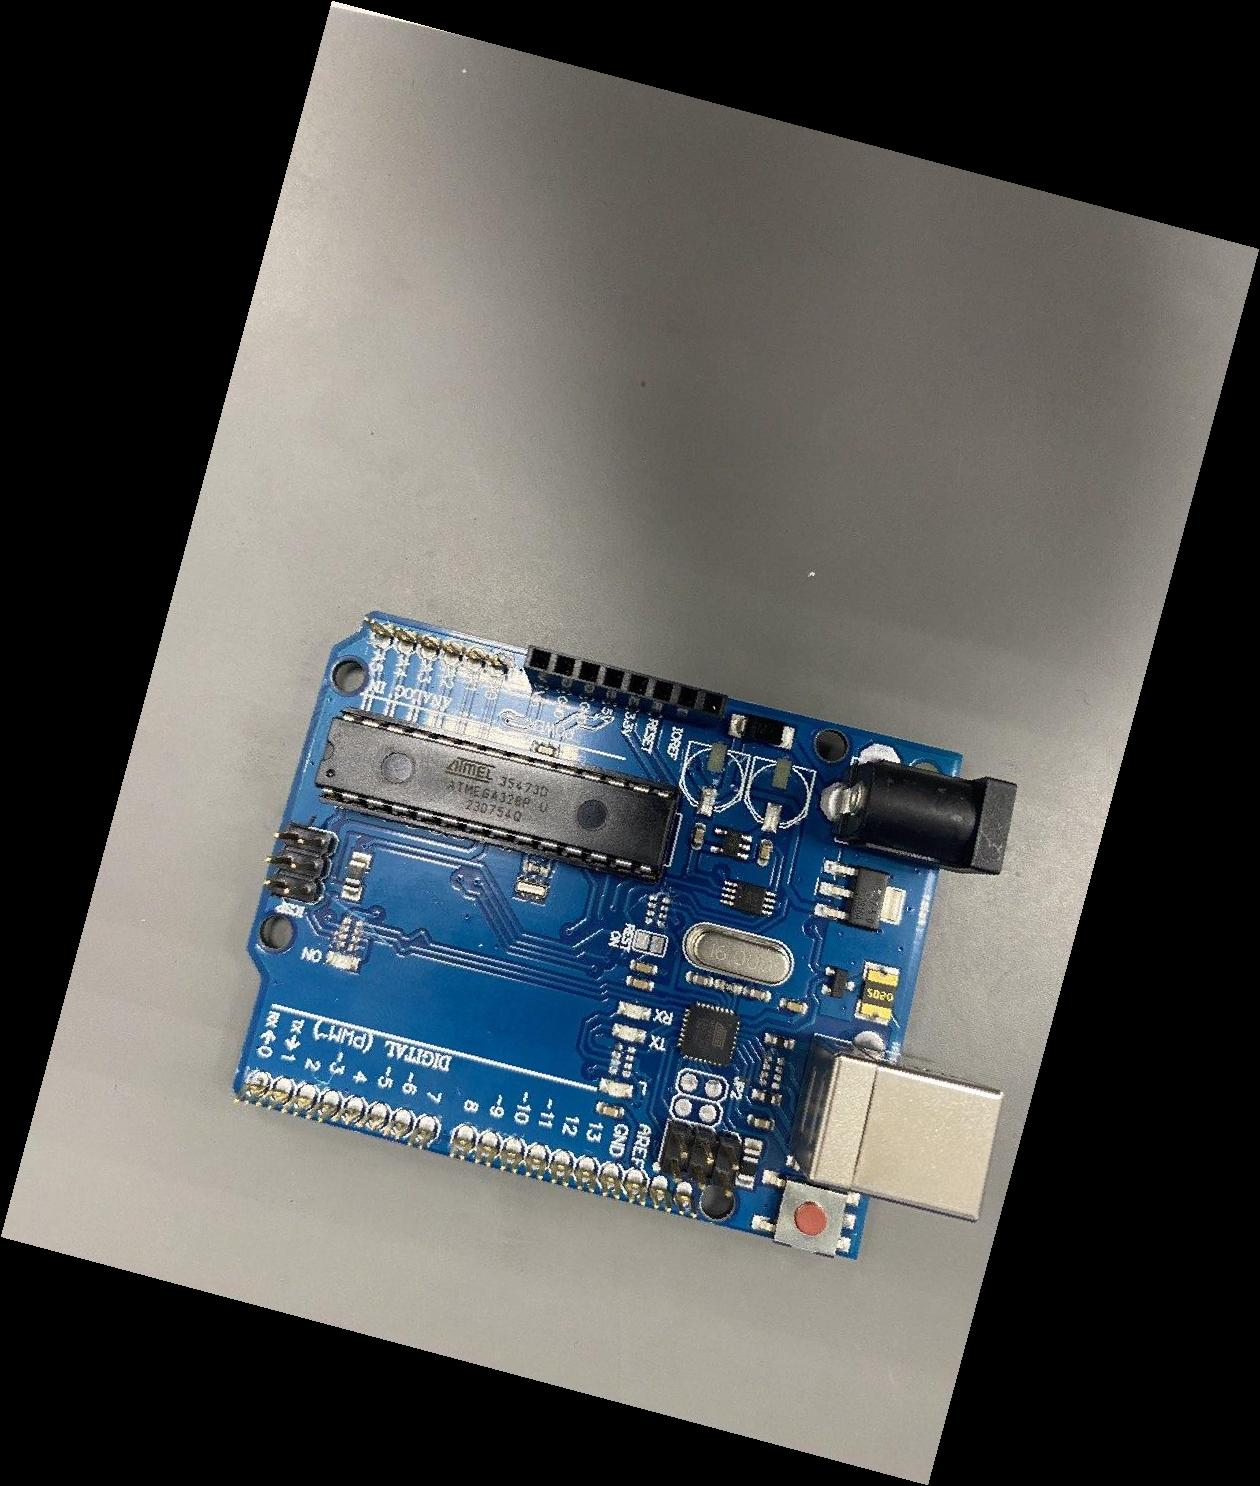ATmega328 chip: (312, 705, 682, 882)
Arduino board: (231, 611, 1016, 1259)
USB: (786, 1035, 1005, 1225)
pins: (524, 644, 730, 731)
